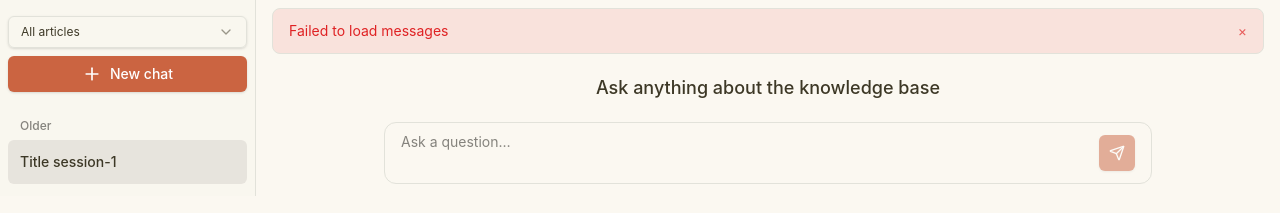
Test case: Chat page › loading a conversation › shows a dismissible banner when the history fails to load
Expected: the message shows "Failed to load messages", top-left (289, 22), bottom-right (448, 39)
What coordinates should you click on to do the following:
click the button named "close"
I would click on:
 (1242, 31)
Its box is top-left (1238, 21), bottom-right (1247, 41).
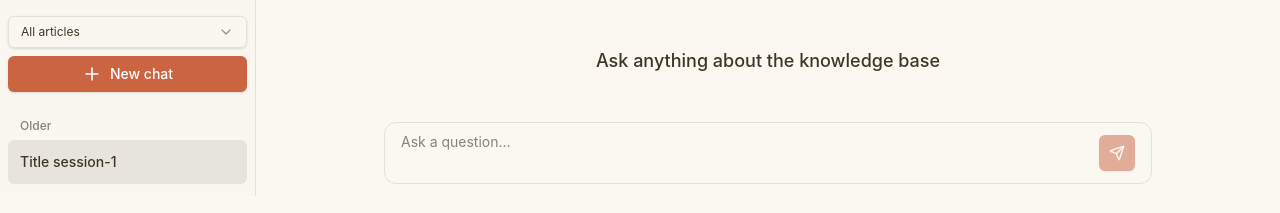
Expected: the message "Failed to load messages ×" is gone
